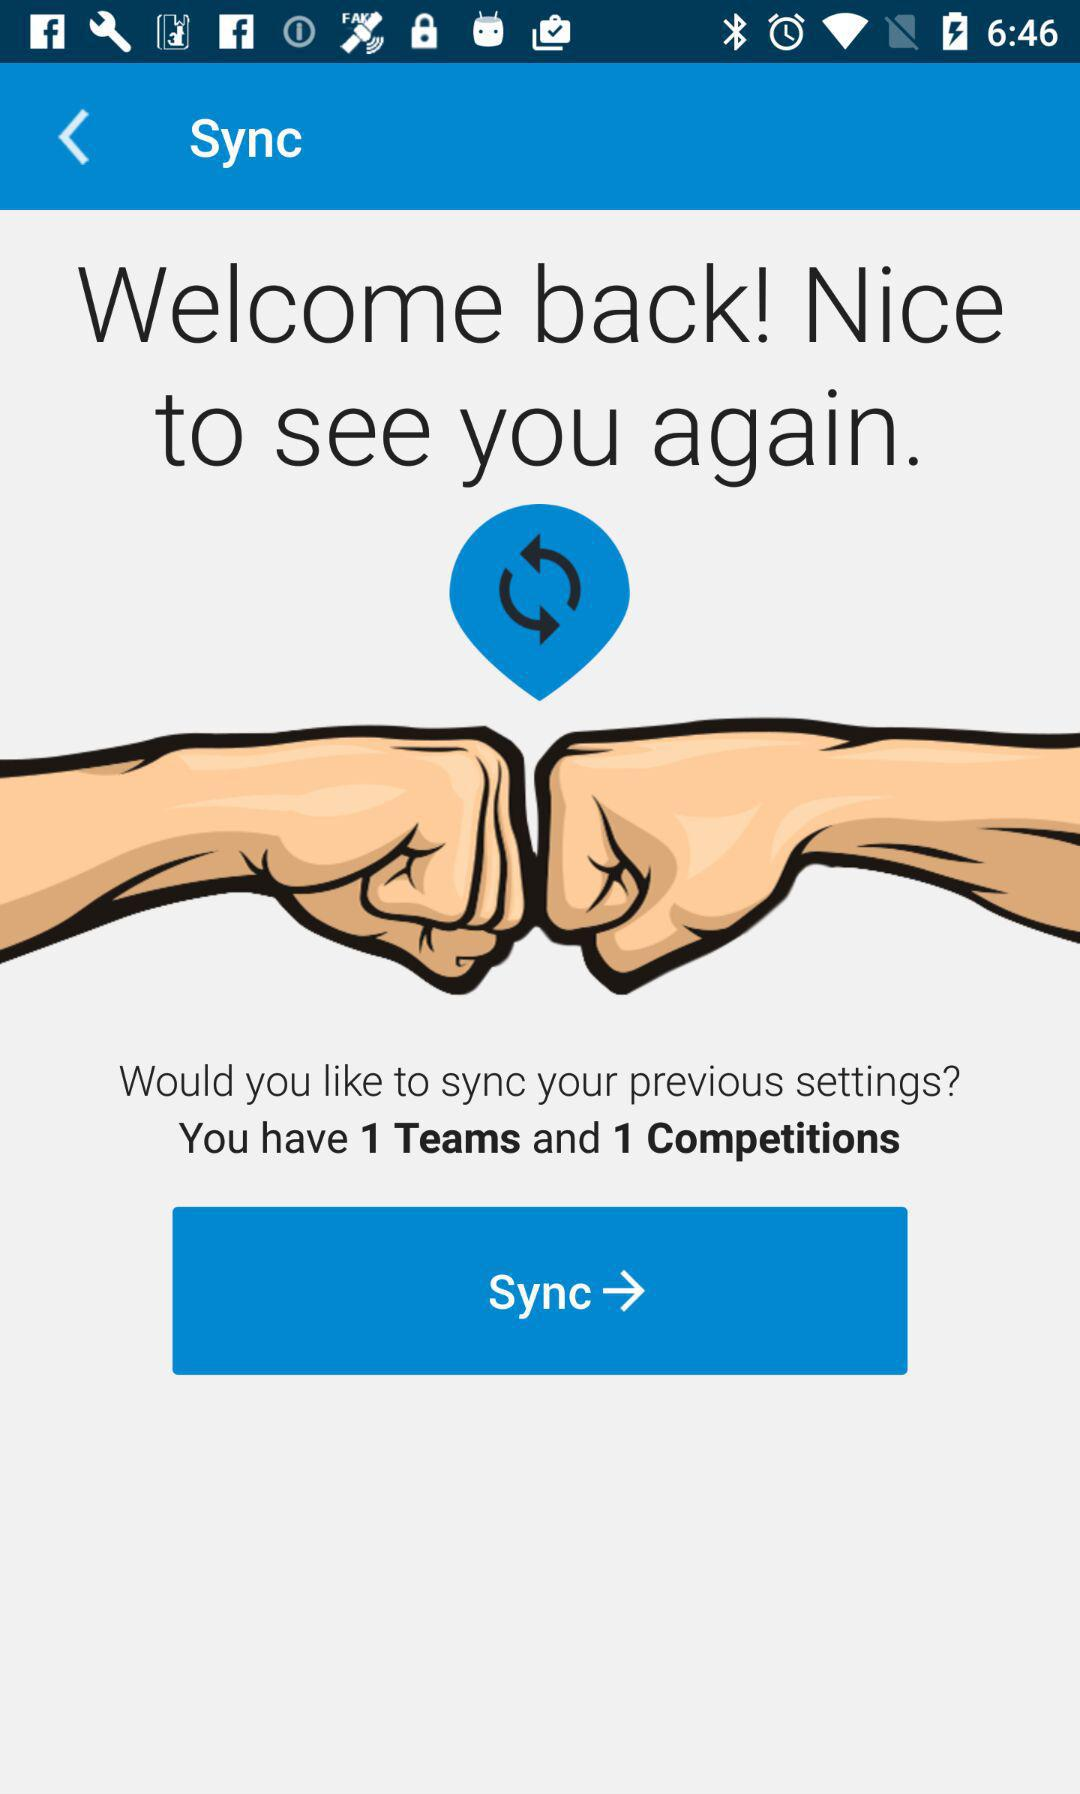Icon: (58, 109, 92, 167)
Image: (1, 718, 1080, 997), (450, 504, 632, 704)
Text: (78, 261, 1003, 490), (120, 1064, 961, 1106), (179, 1121, 901, 1164), (190, 119, 304, 170)
TextButton: (173, 1206, 910, 1376)
Toolbar: (1, 64, 1080, 211)
UpperTaskBar: (1, 1, 1080, 64)
